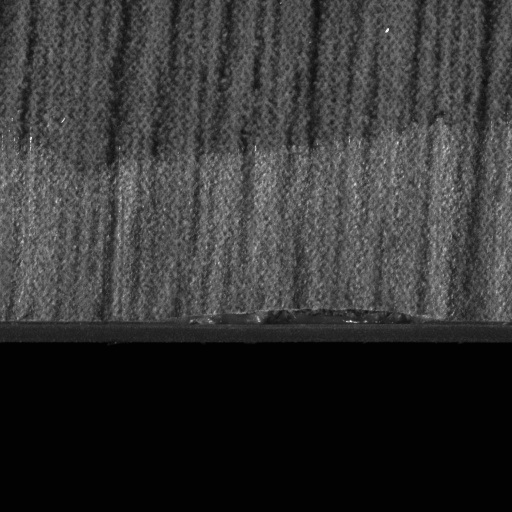bengque: (180, 304, 423, 328)
